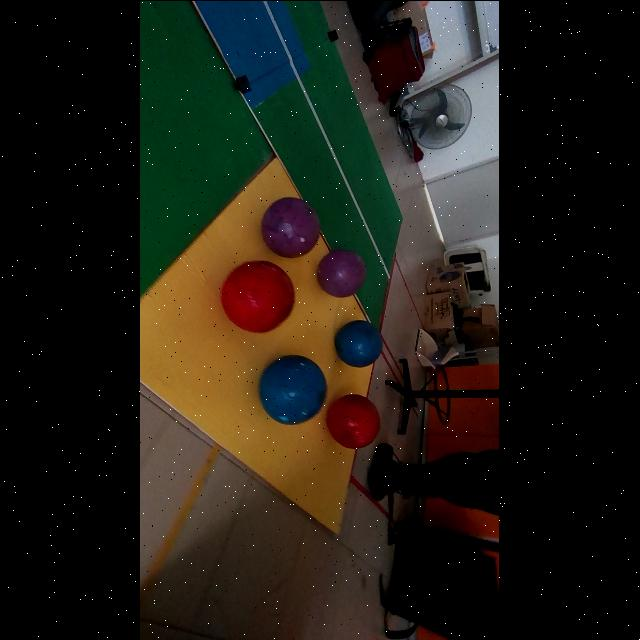B: (261, 354, 327, 424), (336, 320, 383, 365)
P: (262, 197, 320, 256), (318, 249, 367, 297)
R: (222, 260, 296, 332), (327, 394, 380, 448)
